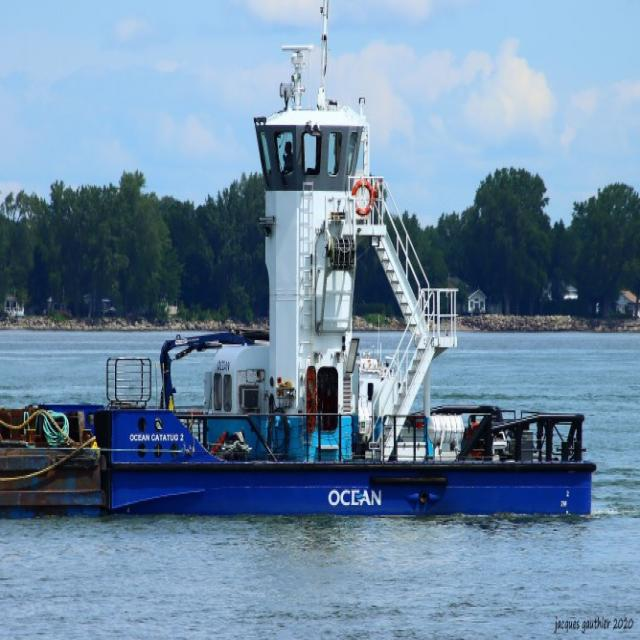tugboat: (31, 41, 604, 535)
